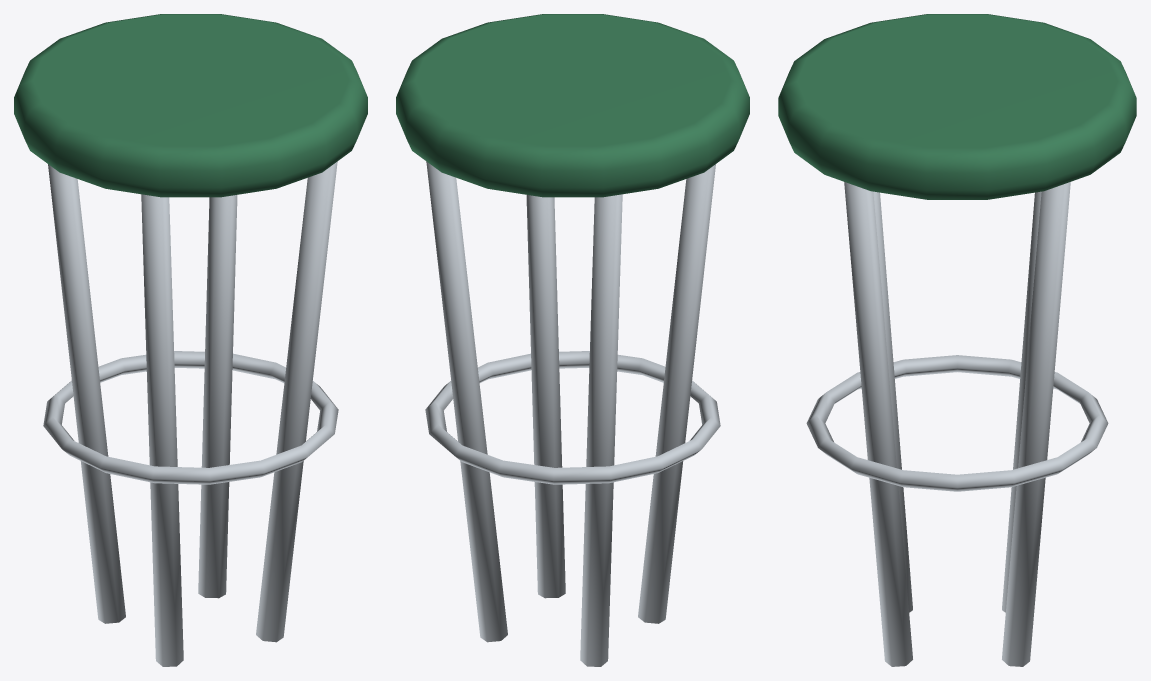
Rendered from Stool.fbx.
3 views of the same model, side by side, from view 1: azimuth 30°, elevation 25°; view 2: azimuth 150°, elevation 25°; view 3: azimuth 270°, elevation 25° (orthographic).
Parts seen in each view (by area): view 1: StoolBody; view 2: StoolBody; view 3: StoolBody.
Part boxes in pixels (x1,y1,x2,y2): StoolBody: [14, 14, 367, 666]; StoolBody: [396, 14, 749, 666]; StoolBody: [778, 14, 1136, 666].
Bounding box in the file's own units: 0.3742 × 0.6498 × 0.38.
